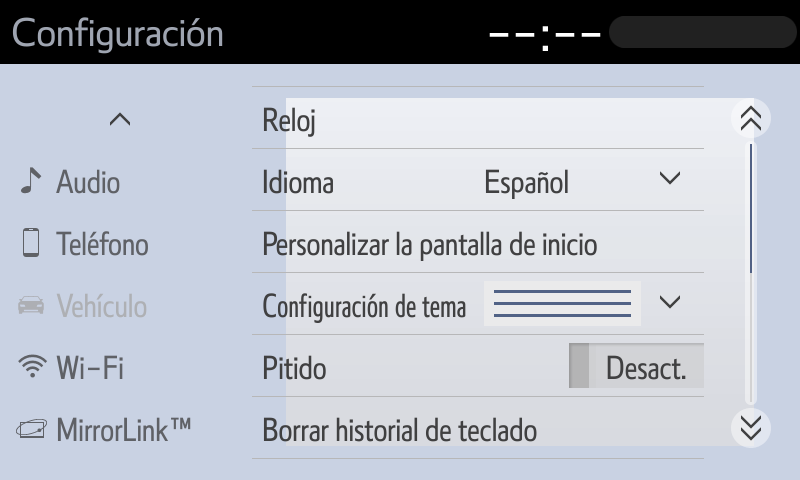touchPart: (241, 78, 706, 156), (240, 144, 707, 216), (239, 331, 711, 402), (242, 206, 709, 277), (239, 269, 712, 338), (242, 396, 710, 462), (6, 344, 161, 391), (11, 219, 164, 264), (14, 413, 203, 447), (16, 156, 126, 204), (730, 410, 778, 453), (730, 97, 773, 137), (107, 104, 136, 129)
untouchPart: (474, 8, 793, 56), (11, 10, 225, 58), (11, 284, 161, 325)
